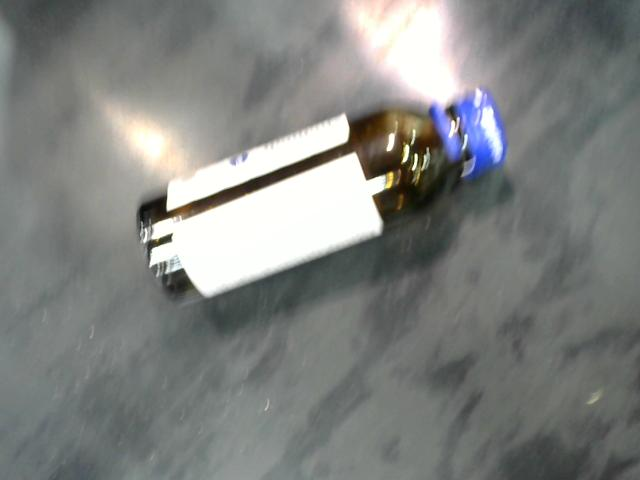glass: (122, 89, 516, 304)
